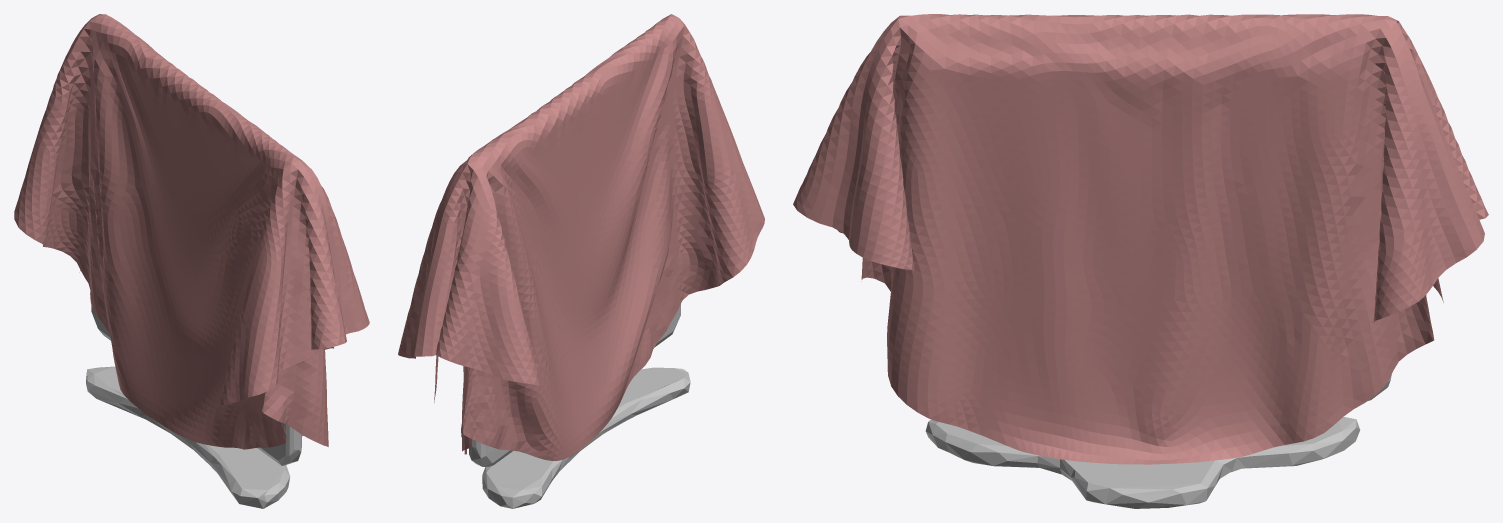
File: level_2.glb
The picture shows the model from 3 angles, left to right: view 1: azimuth 30°, elevation 25°; view 2: azimuth 150°, elevation 25°; view 3: azimuth 270°, elevation 25°; orthographic projection. The views are drawn at different scales.
Visible parts, largest first — view 1: world, object.obj; view 2: world, object.obj; view 3: world, object.obj.
Part boxes in pixels (left/top/right/bottom): world: left=14, top=14, right=369, bottom=449; object.obj: left=86, top=305, right=303, bottom=508; world: left=398, top=14, right=764, bottom=460; object.obj: left=461, top=304, right=690, bottom=508; world: left=793, top=14, right=1488, bottom=464; object.obj: left=925, top=375, right=1391, bottom=508.
Size of the model in its own units: 0.1508 by 0.2914 by 0.4213.
